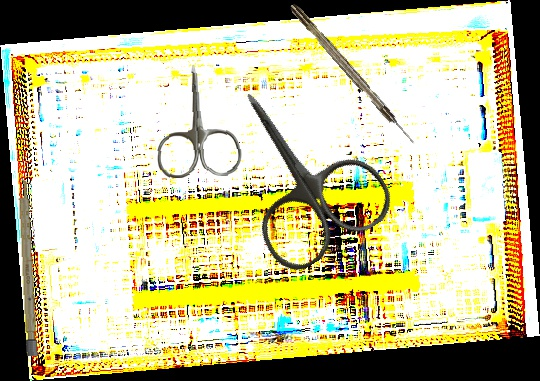Hook Surgical: (288, 1, 418, 148)
Iris Scissors: (193, 58, 401, 280), (152, 62, 243, 180)
Scalpel Handle: (17, 176, 38, 357)
